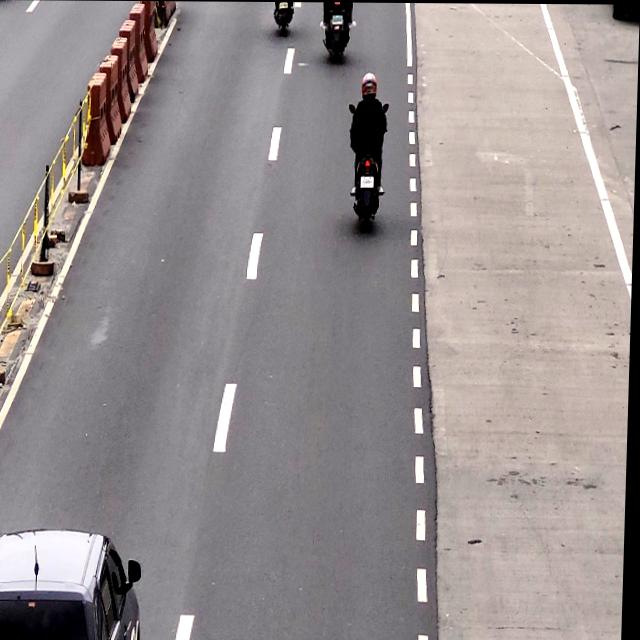Car: (0, 528, 146, 640)
License-Plate: (360, 173, 376, 190)
Motorcycle: (347, 73, 388, 227), (324, 2, 354, 63)
